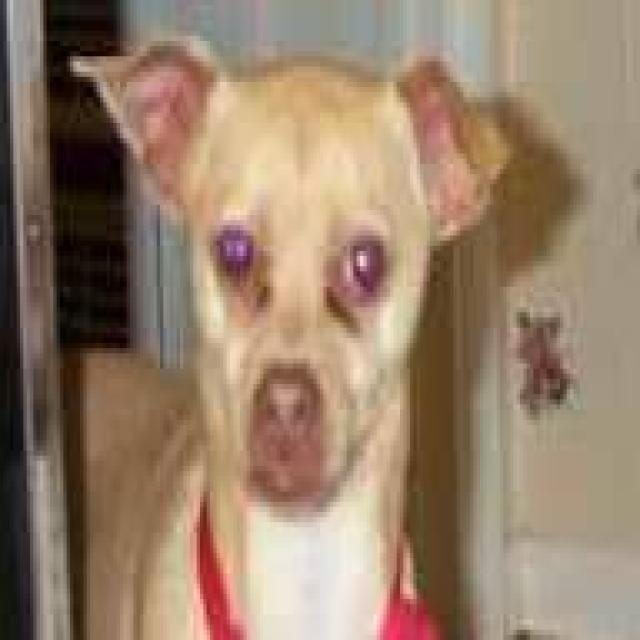dog: (66, 31, 586, 635)
